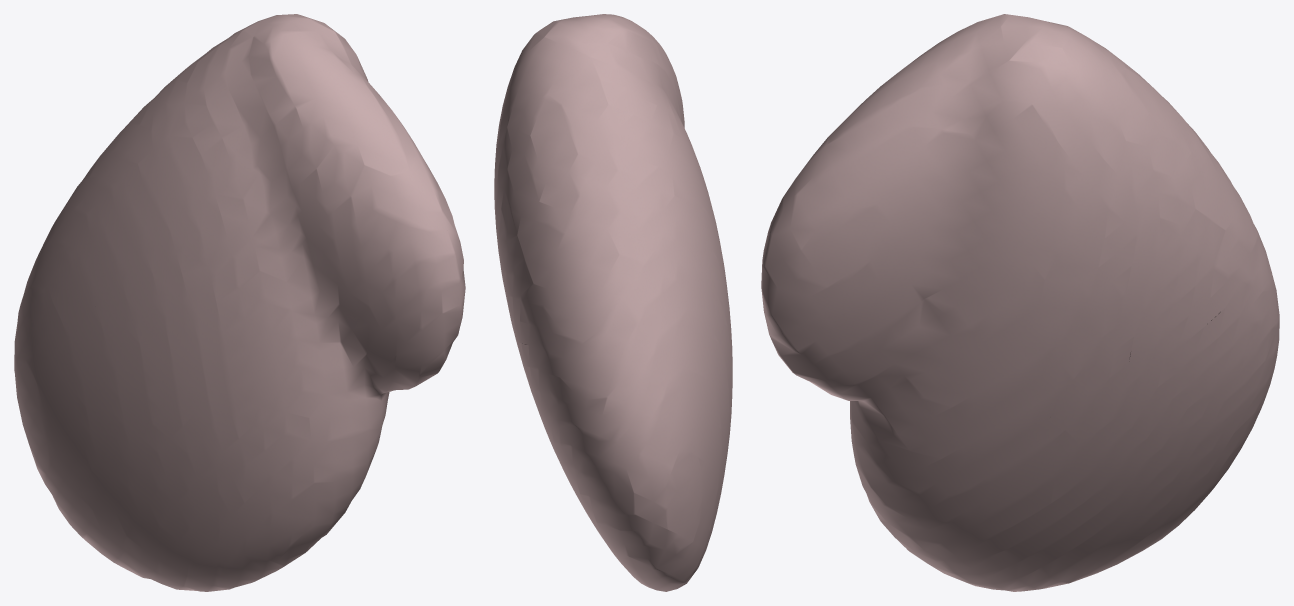
File: chloe-right.gltf
3 views of the same model, side by side, from view 1: azimuth 30°, elevation 25°; view 2: azimuth 150°, elevation 25°; view 3: azimuth 270°, elevation 25° (orthographic). The views are drawn at different scales.
Parts seen in each view (by area): view 1: Layer_7; view 2: Layer_7; view 3: Layer_7.
Part boxes in pixels (box(x1,y1,x2,y2)): Layer_7: box(14, 14, 465, 591); Layer_7: box(494, 14, 732, 591); Layer_7: box(761, 14, 1279, 591).
Bounding box in the file's own units: 12.07 × 23.69 × 18.08.
Materials: 1 (1 with a texture image).
